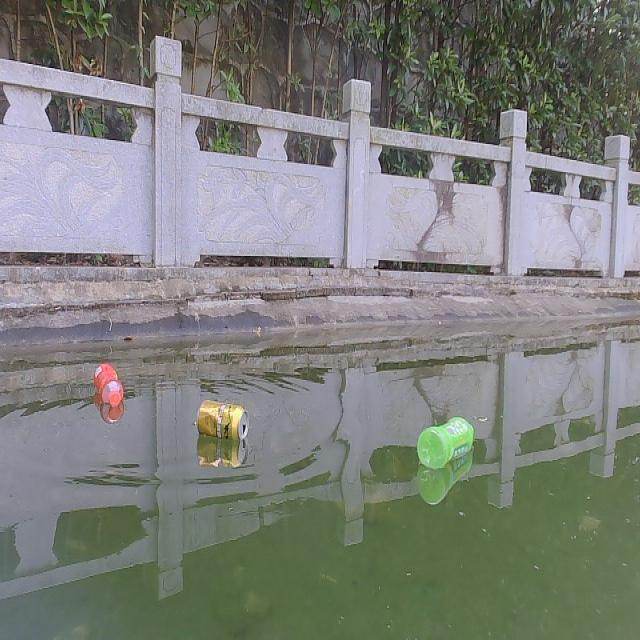bottle: (415, 414, 477, 469), (93, 360, 123, 407)
can: (195, 395, 248, 441)
